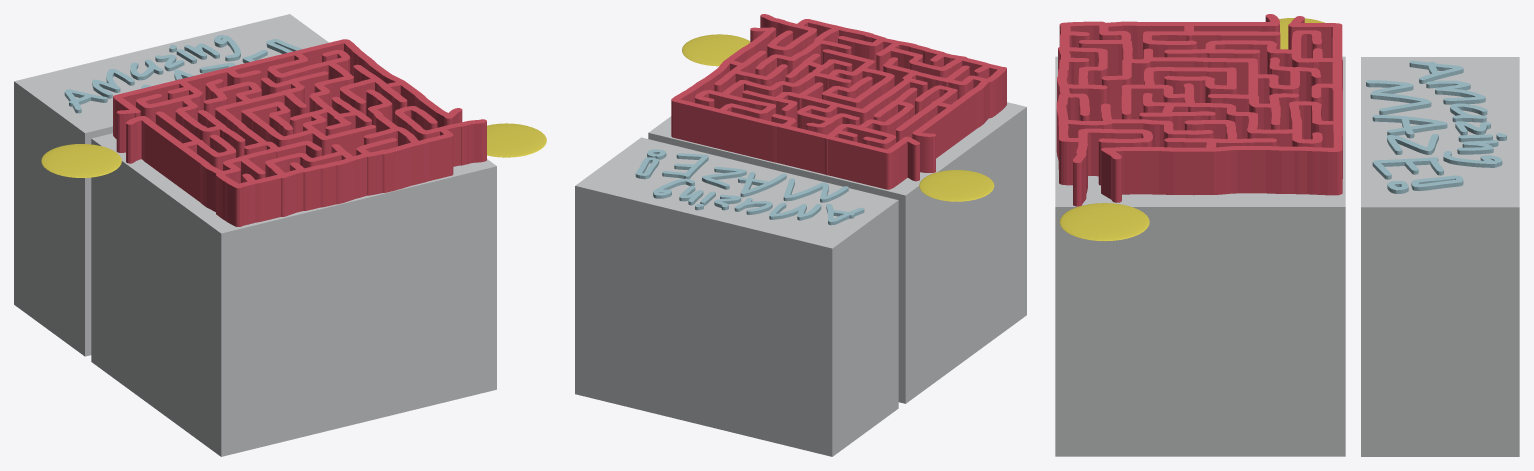
File: SmallMaze.glb
3 views of the same model, side by side, from view 1: azimuth 30°, elevation 25°; view 2: azimuth 150°, elevation 25°; view 3: azimuth 270°, elevation 25° (orthographic). The views are drawn at different scales.
Visible parts, largest first — view 1: Mesh_Mesh_head_geo.001_lambert2SG.001; view 2: Mesh_Mesh_head_geo.001_lambert2SG.001; view 3: Mesh_Mesh_head_geo.001_lambert2SG.001.
Boxes of the visible parts, bbox=[...] form: Mesh_Mesh_head_geo.001_lambert2SG.001: bbox=[14, 14, 546, 456]; Mesh_Mesh_head_geo.001_lambert2SG.001: bbox=[575, 14, 1026, 456]; Mesh_Mesh_head_geo.001_lambert2SG.001: bbox=[1055, 14, 1519, 456].
Bounding box in the file's own units: 610 × 373 × 536.
